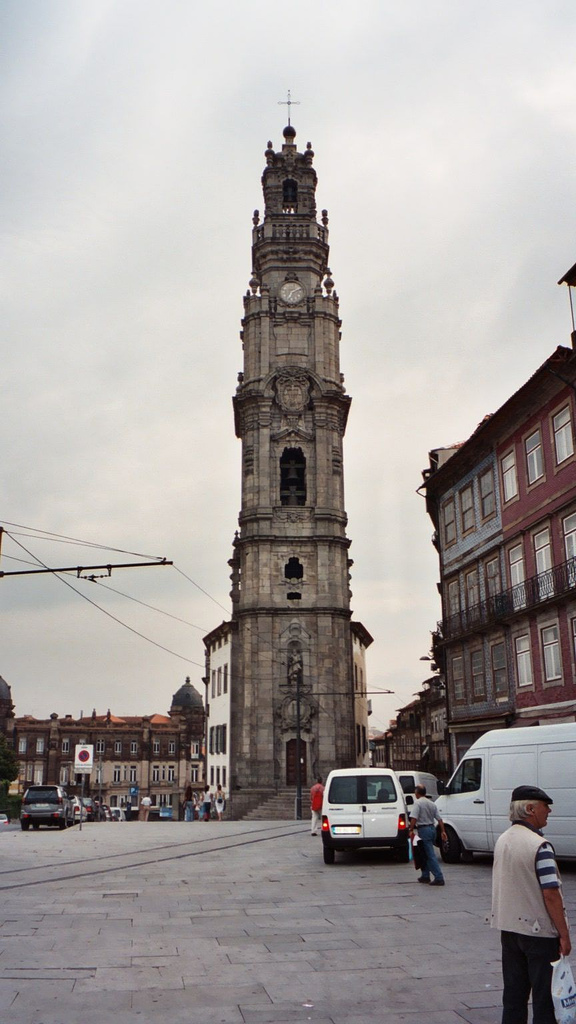clerigos: (230, 82, 359, 791)
